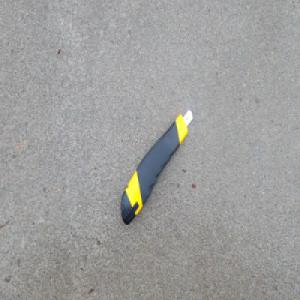Cutter: (119, 107, 194, 227)
